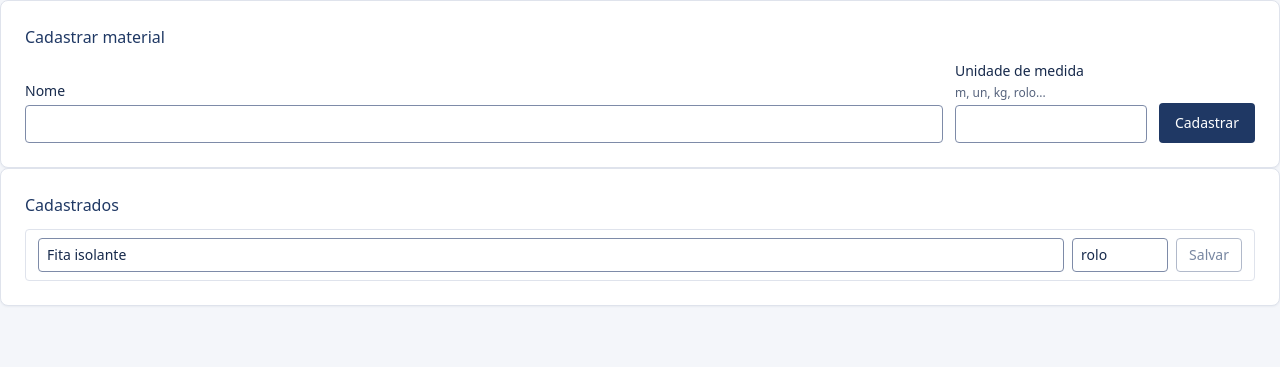
Test: Catálogo de materiais › cadastra nome e unidade, confirma e limpa o formulário
In the field labelled "Nome": (484, 124) [25,105,943,143], type "Cabo flexível"
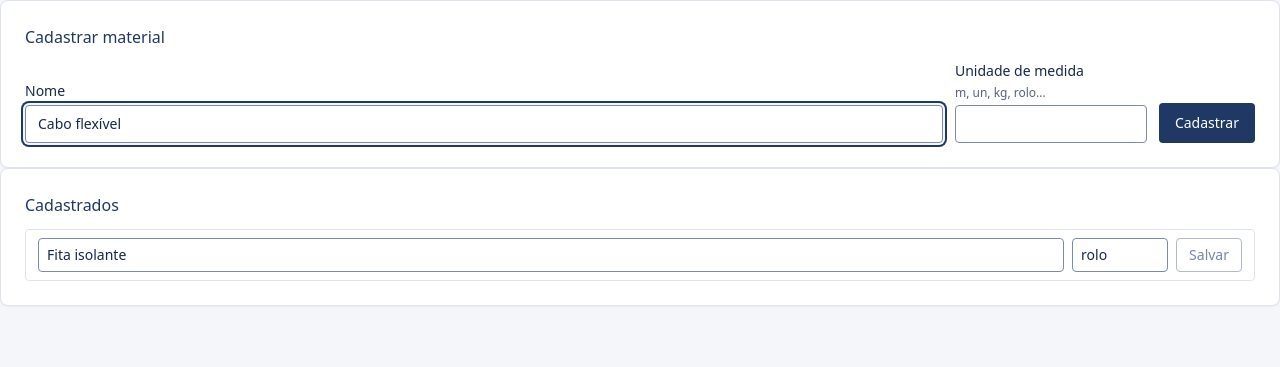
In the field labelled "Unidade de medida": (1051, 124) [955,105,1147,143], type "m"
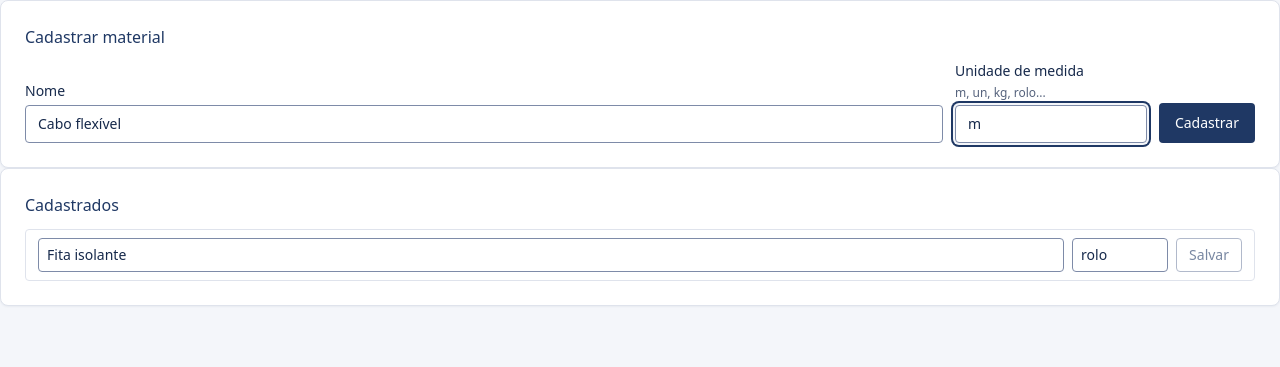
Click the button "Cadastrar": (1207, 123) [1159,103,1255,143]
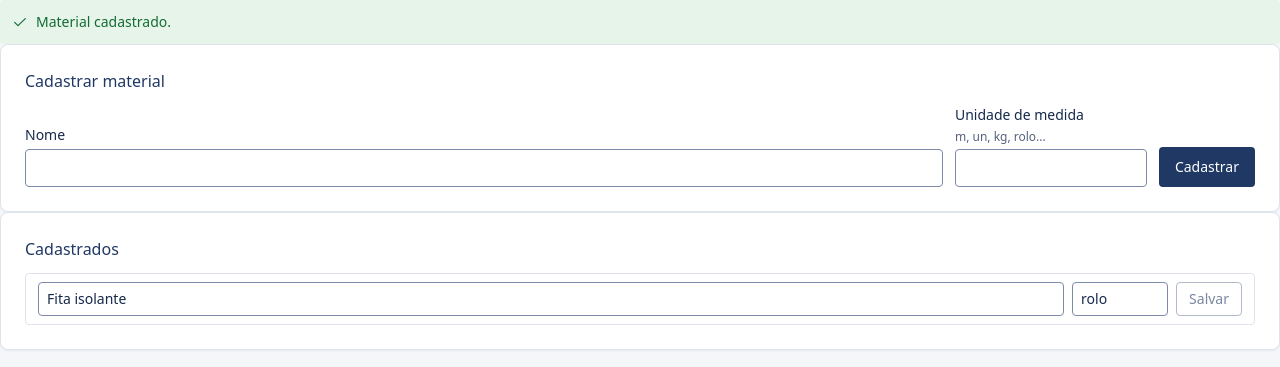
Result: the text "Material cadastrado." is shown at [36,12,171,31]
Result: the field labelled "Nome" is empty at [25,149,943,187]
